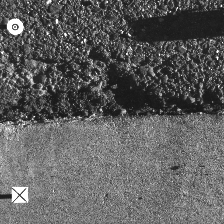circle: (6, 18, 24, 35)
crack: (1, 100, 224, 123)
square: (11, 187, 28, 203)
